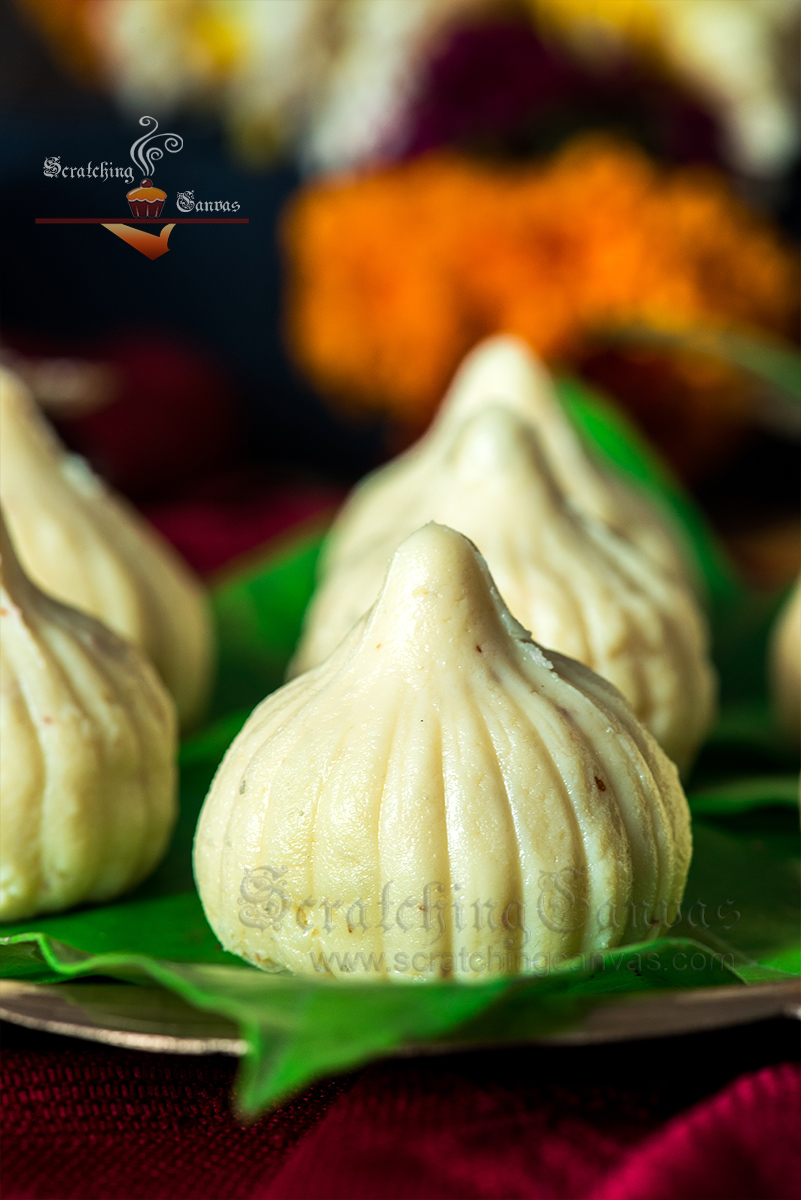modak: (215, 501, 706, 991)
